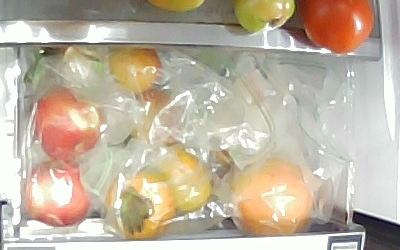apple_vinyl: (34, 86, 101, 160), (24, 161, 92, 225)
grapefruit_vinyl: (233, 158, 317, 238)
persimmon_vinyl: (102, 172, 177, 241), (159, 150, 211, 212)
prune_vinyl: (129, 90, 179, 145), (107, 49, 163, 93)
